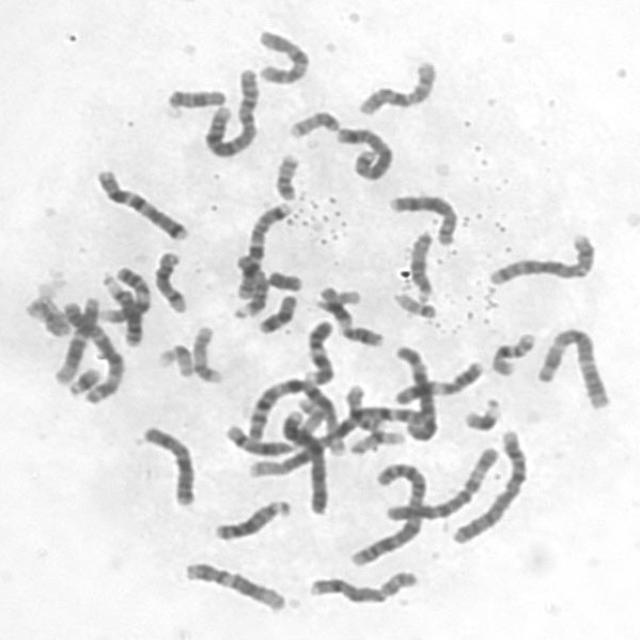A1: (242, 403, 422, 478), (238, 373, 348, 458)
A2: (343, 457, 432, 569), (198, 62, 262, 159)
A3: (57, 294, 127, 406), (530, 322, 614, 411)
B4: (445, 424, 532, 545), (276, 405, 331, 515)
B5: (482, 228, 598, 286), (329, 121, 396, 183)
C10: (352, 53, 439, 117), (250, 23, 312, 85)
C11: (312, 280, 386, 348), (389, 355, 487, 406)
C12: (178, 555, 288, 614), (48, 293, 102, 387)
C6: (378, 441, 502, 523), (387, 340, 439, 442)
C7: (90, 162, 190, 243), (231, 196, 295, 304)
C8: (301, 565, 421, 606), (382, 188, 460, 247)
C9: (94, 262, 153, 324), (298, 314, 338, 386)
D13: (207, 493, 294, 542), (96, 268, 145, 348)
D14: (220, 418, 299, 457), (148, 244, 190, 315)
D15: (228, 249, 269, 319), (404, 225, 437, 304)
E16: (485, 326, 538, 378), (340, 379, 387, 433)
E17: (186, 318, 225, 384), (291, 399, 327, 445)
E18: (252, 289, 299, 335), (162, 82, 228, 110)
F19: (343, 423, 407, 457), (152, 338, 196, 378)
F20: (268, 148, 302, 202), (289, 110, 341, 140)
G21: (458, 392, 503, 433), (62, 360, 104, 397)
G22: (387, 286, 439, 320), (313, 283, 362, 307)
X: (136, 419, 198, 508)
Y: (23, 297, 74, 337), (261, 266, 303, 292)
